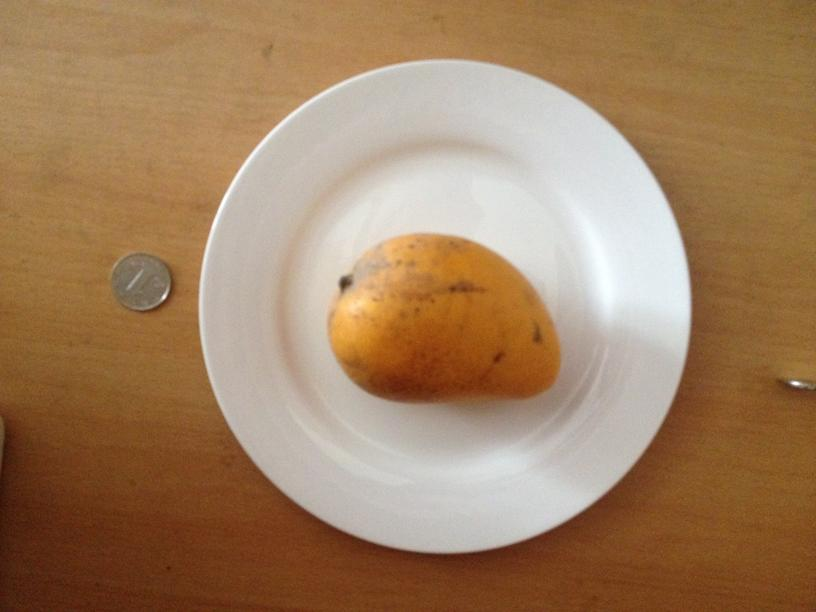coin: (109, 252, 171, 310)
mango: (323, 236, 561, 400)
